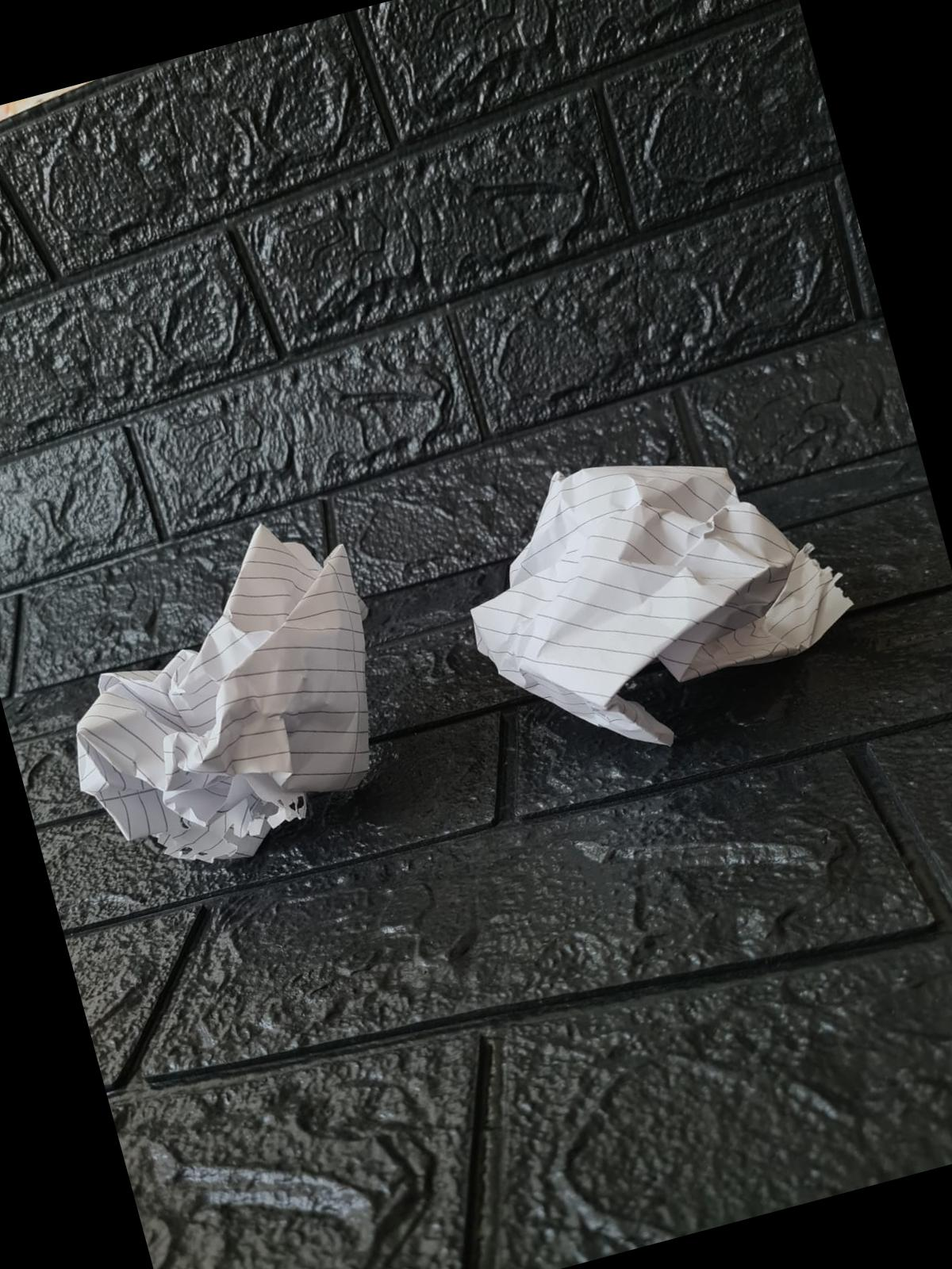Kertas: (471, 466, 850, 743), (77, 526, 369, 861)
